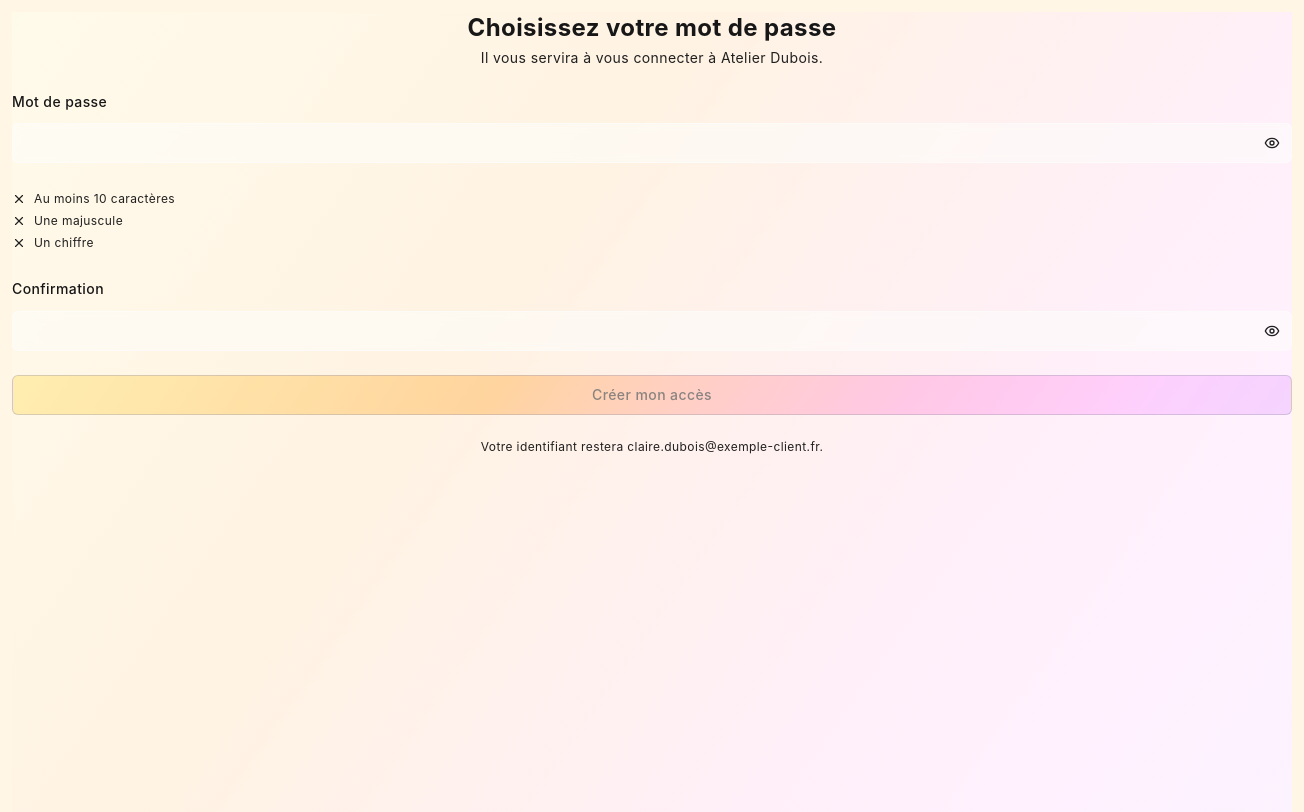
Scenario: PasswordScreen — règles de robustesse › accepte une majuscule accentuée comme majuscule
In the password field labelled "Mot de passe": (652, 143) [12,123,1292,163], type "Étoile1234"
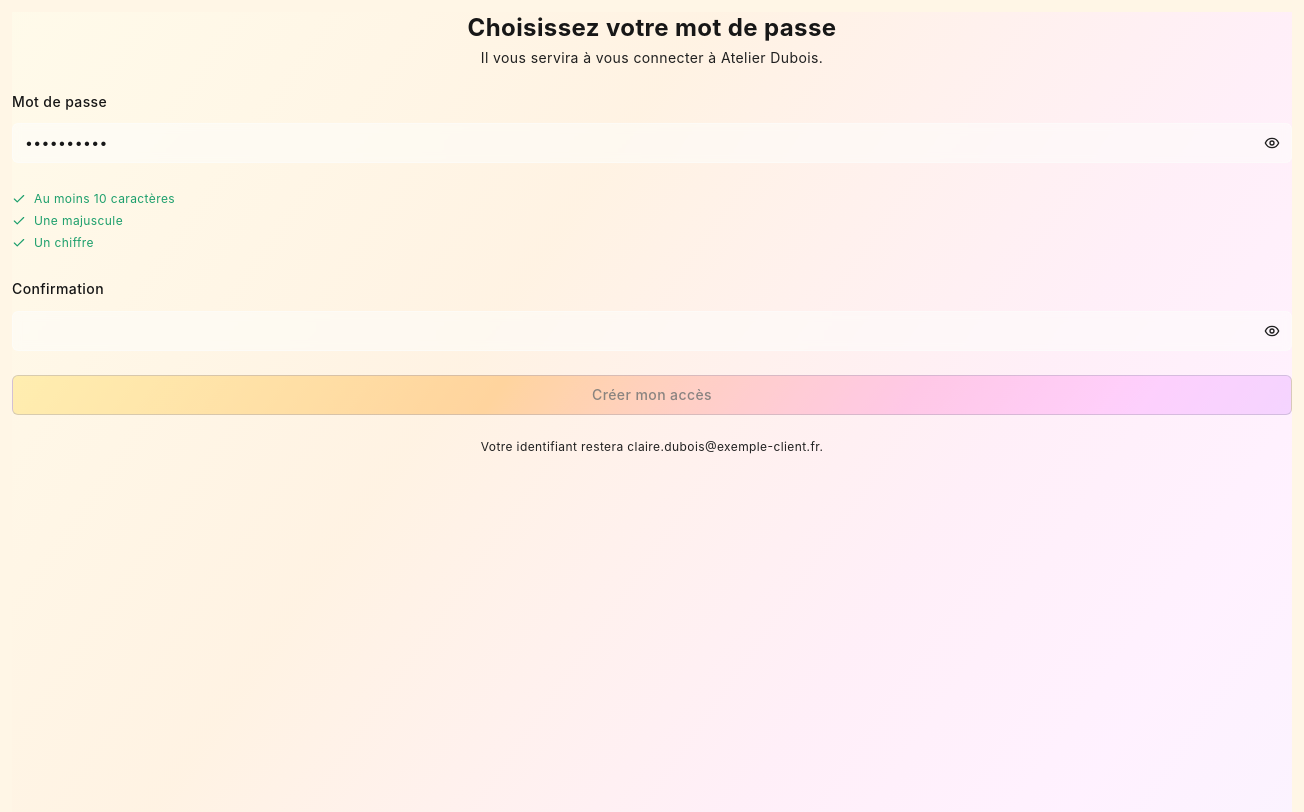
In the password field labelled "Confirmation": (652, 330) [12,310,1292,350], type "Étoile1234"
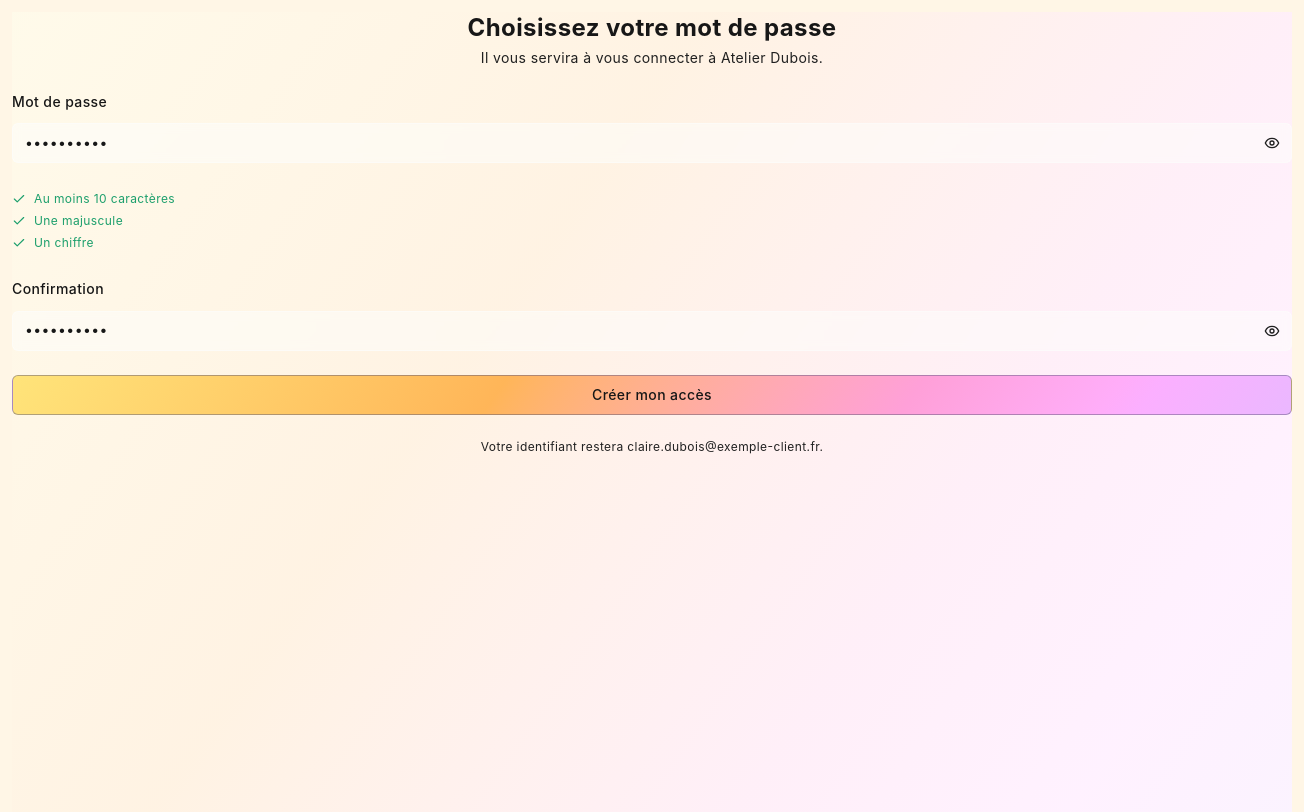
Now the button "Créer mon accès" is enabled, box [12,374,1292,414]
